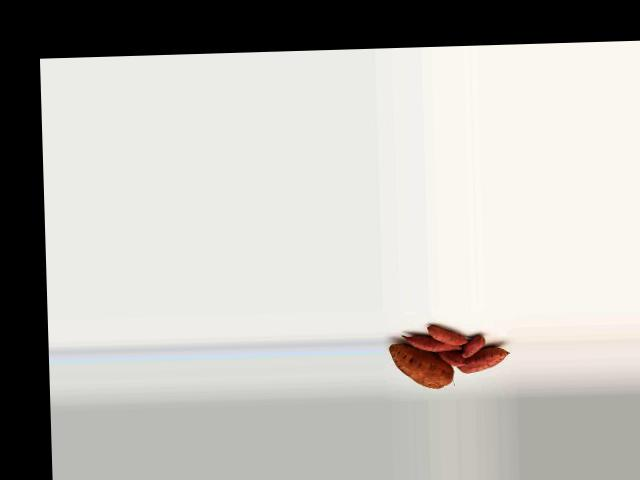sweet_potato: (458, 346, 512, 373)
